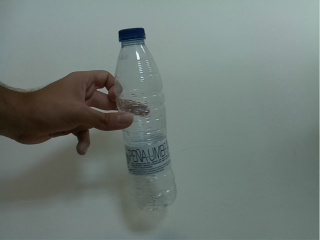botella plastico: (113, 26, 179, 214)
